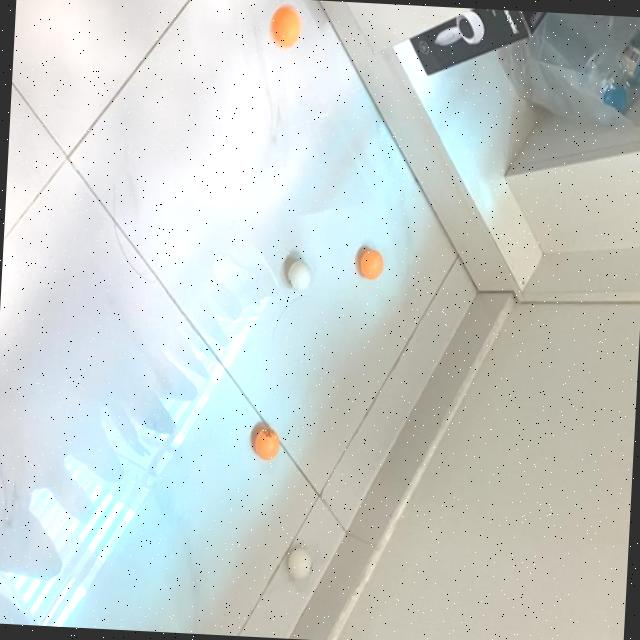ping-pong-ball: (270, 4, 302, 48), (285, 546, 313, 581), (253, 427, 280, 460), (288, 260, 314, 292), (360, 248, 384, 279)
